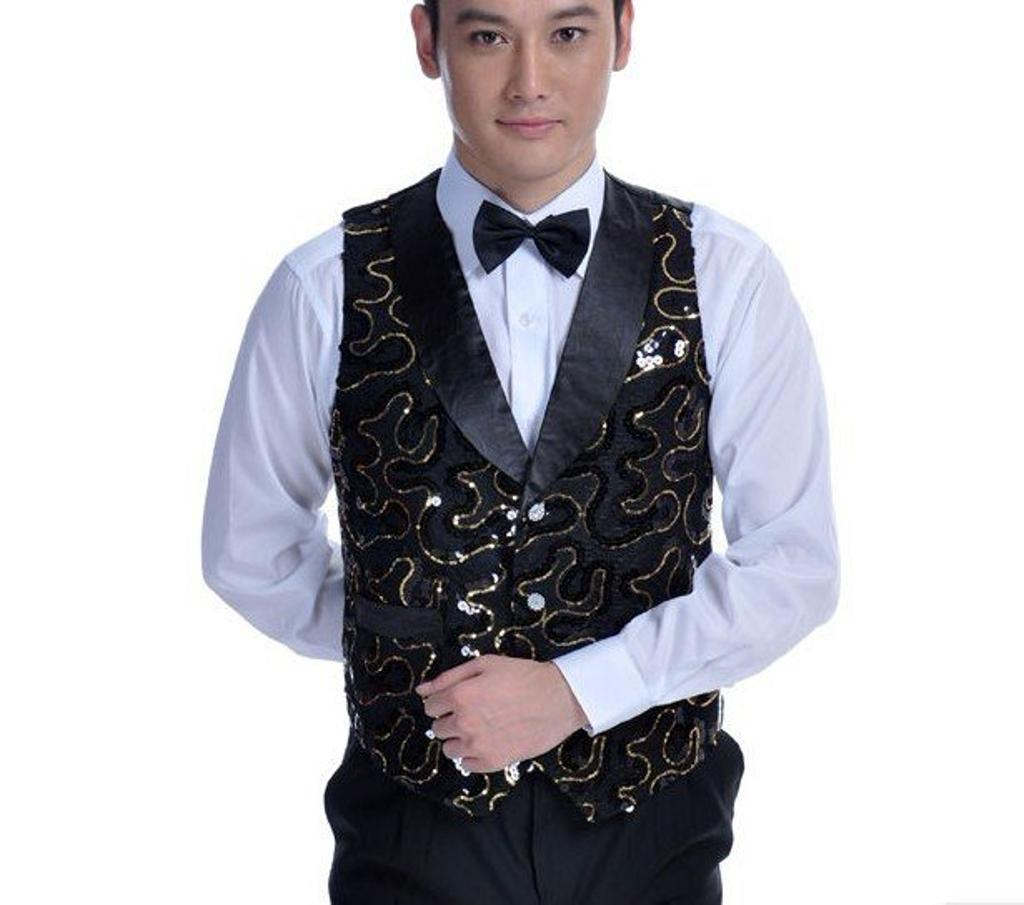face: (436, 6, 614, 178)
